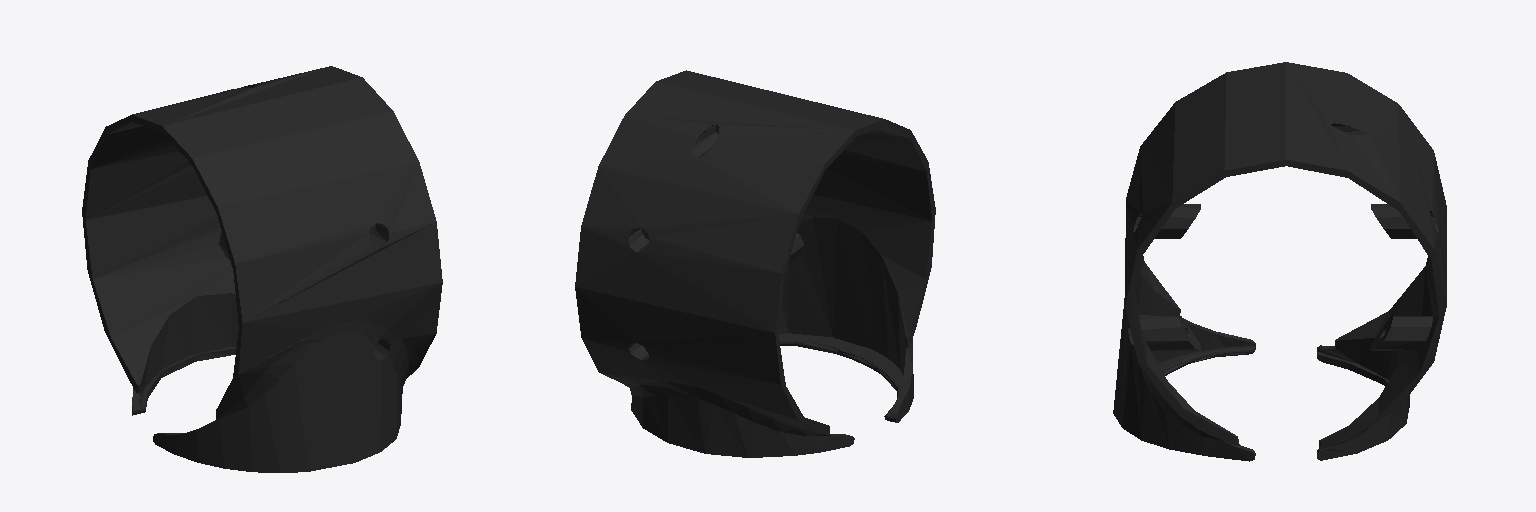
File: asm0001_vrml_23_prt.obj
3 views of the same model, side by side, from view 1: azimuth 30°, elevation 25°; view 2: azimuth 150°, elevation 25°; view 3: azimuth 270°, elevation 25° (orthographic).
Visible parts, largest first — view 1: ShapeIndexedFaceSet_ShapeIndexedFaceSet.068, ShapeIndexedFaceSet.001_ShapeIndexedFaceSet; view 2: ShapeIndexedFaceSet.001_ShapeIndexedFaceSet, ShapeIndexedFaceSet_ShapeIndexedFaceSet.068; view 3: ShapeIndexedFaceSet_ShapeIndexedFaceSet.068, ShapeIndexedFaceSet.001_ShapeIndexedFaceSet.
Part boxes in pixels (x1,y1,x2,y2): ShapeIndexedFaceSet_ShapeIndexedFaceSet.068: (153, 77, 442, 472); ShapeIndexedFaceSet.001_ShapeIndexedFaceSet: (82, 66, 361, 415); ShapeIndexedFaceSet.001_ShapeIndexedFaceSet: (575, 82, 855, 457); ShapeIndexedFaceSet_ShapeIndexedFaceSet.068: (656, 70, 935, 422); ShapeIndexedFaceSet_ShapeIndexedFaceSet.068: (1113, 62, 1285, 461); ShapeIndexedFaceSet.001_ShapeIndexedFaceSet: (1286, 62, 1446, 460).
Bounding box in the file's own units: 1.88 × 2.32 × 2.35.